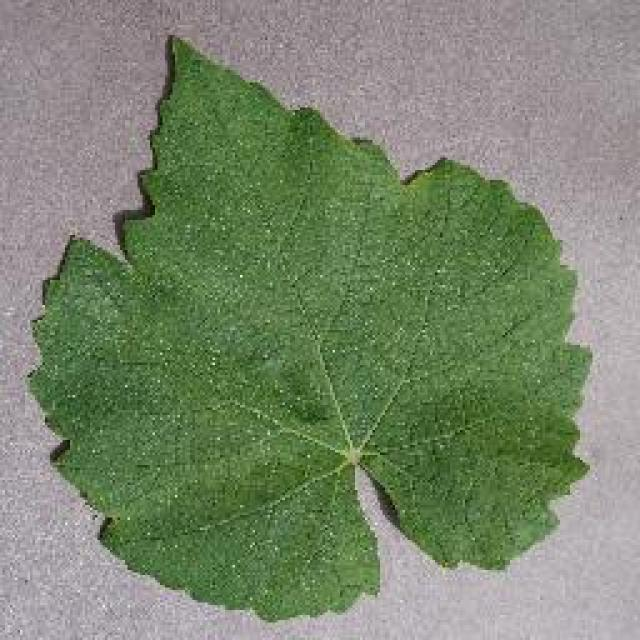Grape___healthy: (30, 40, 588, 618)
